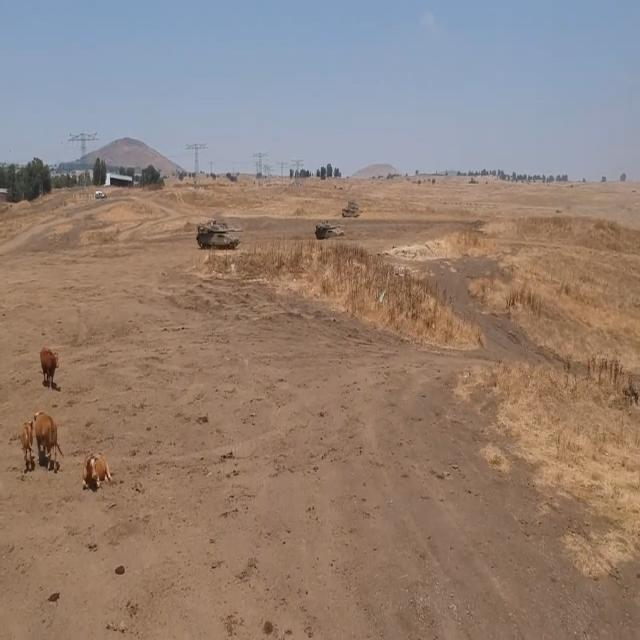tank: (193, 200, 247, 262), (308, 204, 344, 244), (344, 190, 364, 221)
